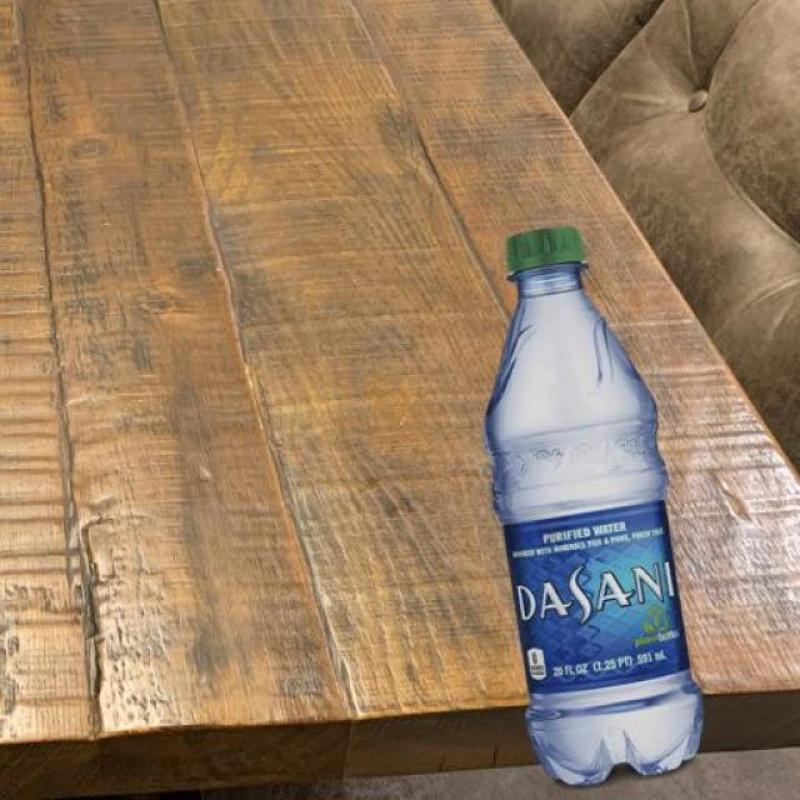botella: (483, 220, 706, 786)
